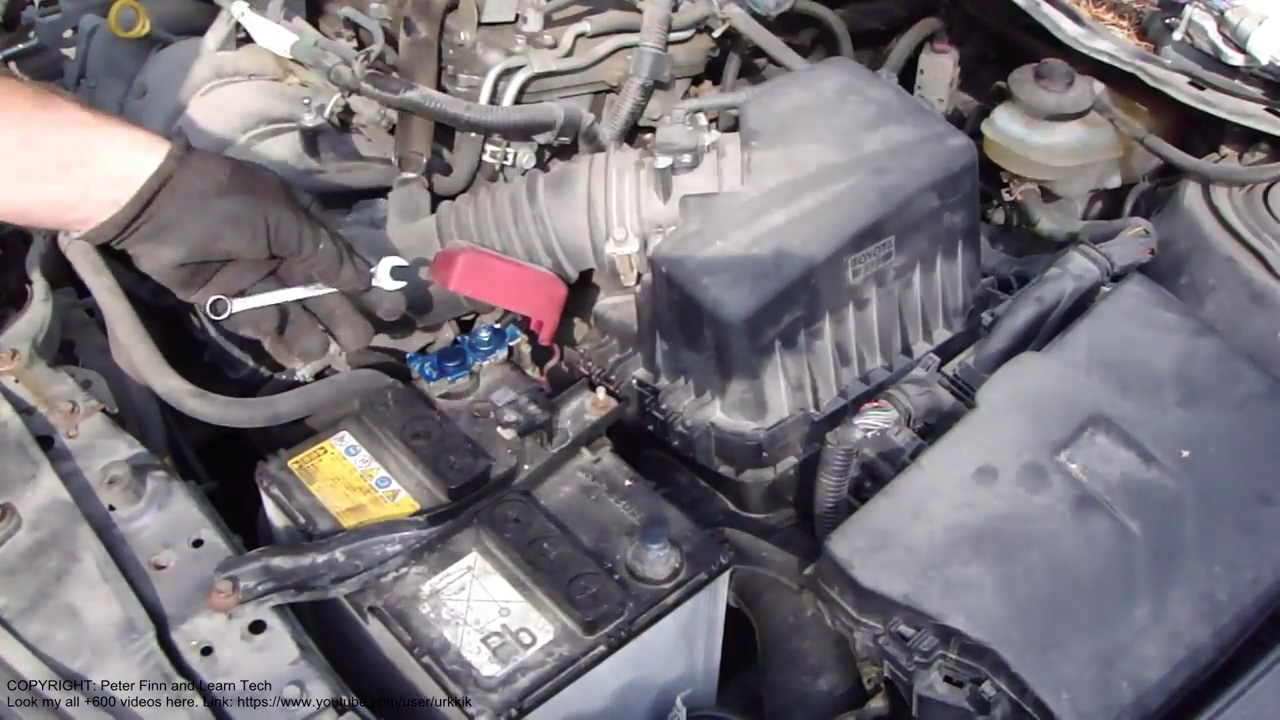battery: (245, 290, 743, 664)
neg_disconnected: (599, 499, 708, 604)
pos_connected: (423, 236, 576, 394)
